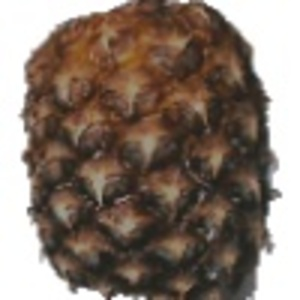abacaxi: (11, 2, 285, 294)
